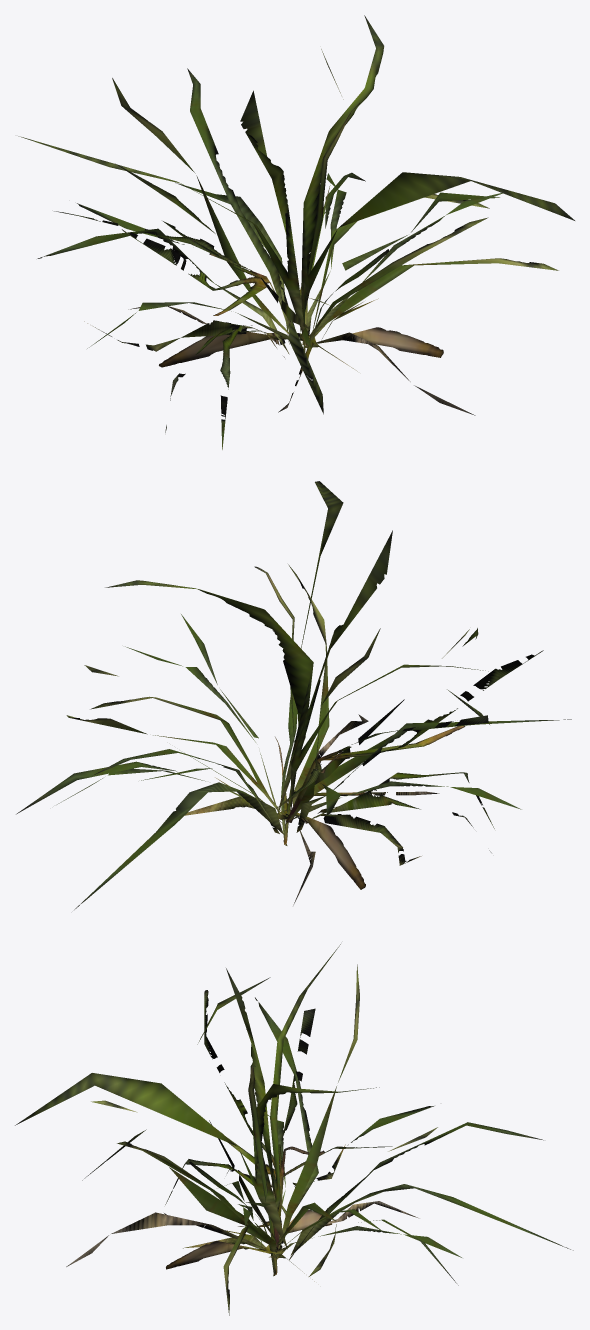
Rendered from workshop-meadow-grass.glb.
3 renders of one model, top to bottom at view 1: azimuth 30°, elevation 25°; view 2: azimuth 150°, elevation 25°; view 3: azimuth 270°, elevation 25°, orthographic. The views are drawn at different scales.
Visible parts, largest first — view 1: grass_short_lod_leaves, grass_tiny_leaves; view 2: grass_short_lod_leaves, grass_tiny_leaves; view 3: grass_short_lod_leaves, grass_tiny_leaves.
Part boxes in pixels (<box>): grass_short_lod_leaves: <box>18,15,574,449</box>; grass_tiny_leaves: <box>302,103,388,359</box>; grass_short_lod_leaves: <box>16,481,571,909</box>; grass_tiny_leaves: <box>254,566,297,845</box>; grass_short_lod_leaves: <box>15,944,573,1315</box>; grass_tiny_leaves: <box>189,1065,277,1276</box>.
Bounding box in the file's own units: 0.4119 × 0.2482 × 0.458.
1 material, 1 textured.
